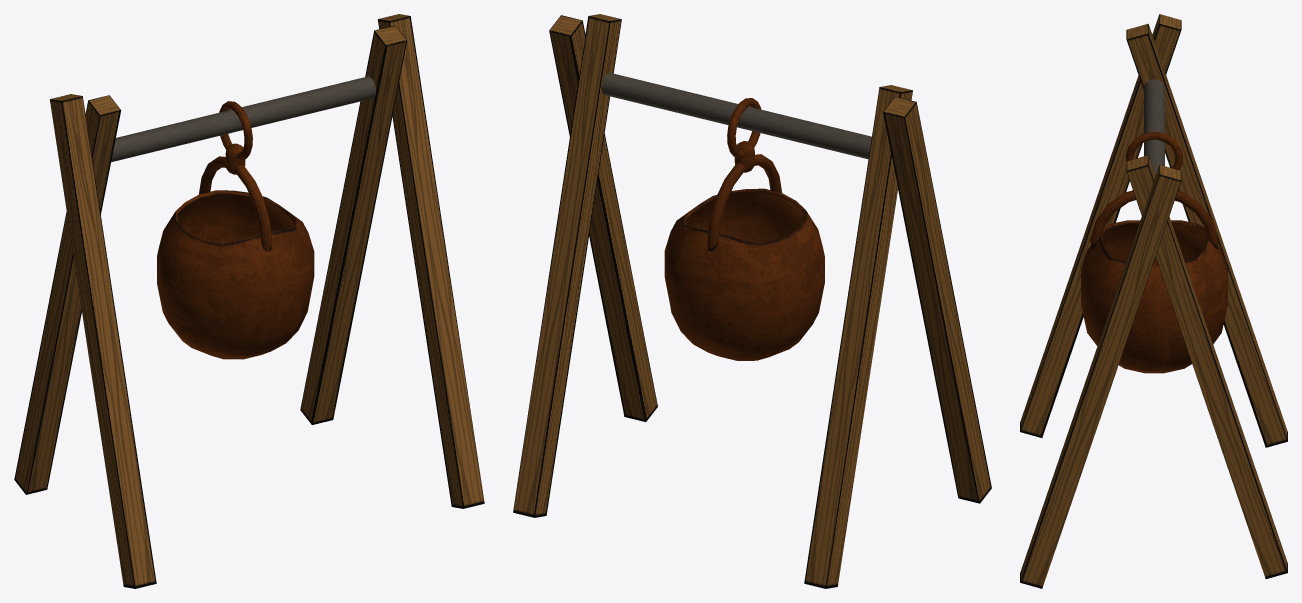
File: kookpot.glb
3 renders of one model, left to right at view 1: azimuth 30°, elevation 25°; view 2: azimuth 150°, elevation 25°; view 3: azimuth 270°, elevation 25°, orthographic. The views are drawn at different scales.
Visible parts, largest first — view 1: Roundcube.001, Cube.003, Cube.004, Cube.001, Cube.002, Cylinder, Torus.001; view 2: Roundcube.001, Cube.001, Cube.002, Cube.003, Cube.004, Cylinder, Torus.001; view 3: Roundcube.001, Cube.004, Cube.001, Cube.003, Cube.002, Cylinder, Torus.001.
Boxes of the visible parts, bbox=[...] form: Roundcube.001: bbox=[157, 156, 314, 359]; Cube.003: bbox=[50, 94, 156, 588]; Cube.004: bbox=[378, 14, 484, 508]; Cube.001: bbox=[300, 25, 407, 424]; Cube.002: bbox=[14, 95, 121, 494]; Cylinder: bbox=[111, 76, 375, 162]; Torus.001: bbox=[219, 101, 252, 160]; Roundcube.001: bbox=[664, 154, 824, 360]; Cube.001: bbox=[513, 14, 621, 517]; Cube.002: bbox=[804, 85, 912, 588]; Cube.003: bbox=[883, 96, 991, 503]; Cube.004: bbox=[549, 15, 657, 421]; Cylinder: bbox=[601, 72, 871, 159]; Torus.001: bbox=[727, 98, 761, 158]; Roundcube.001: bbox=[1081, 190, 1227, 373]; Cube.004: bbox=[1020, 164, 1181, 588]; Cube.001: bbox=[1126, 155, 1287, 578]; Cube.003: bbox=[1020, 14, 1181, 437]; Cube.002: bbox=[1126, 23, 1287, 447]; Cylinder: bbox=[1144, 79, 1164, 175]; Torus.001: bbox=[1125, 132, 1183, 170].
Size of the model in its own units: 1.65 by 1.98 by 1.16.
Materials: 5 (5 with a texture image).
